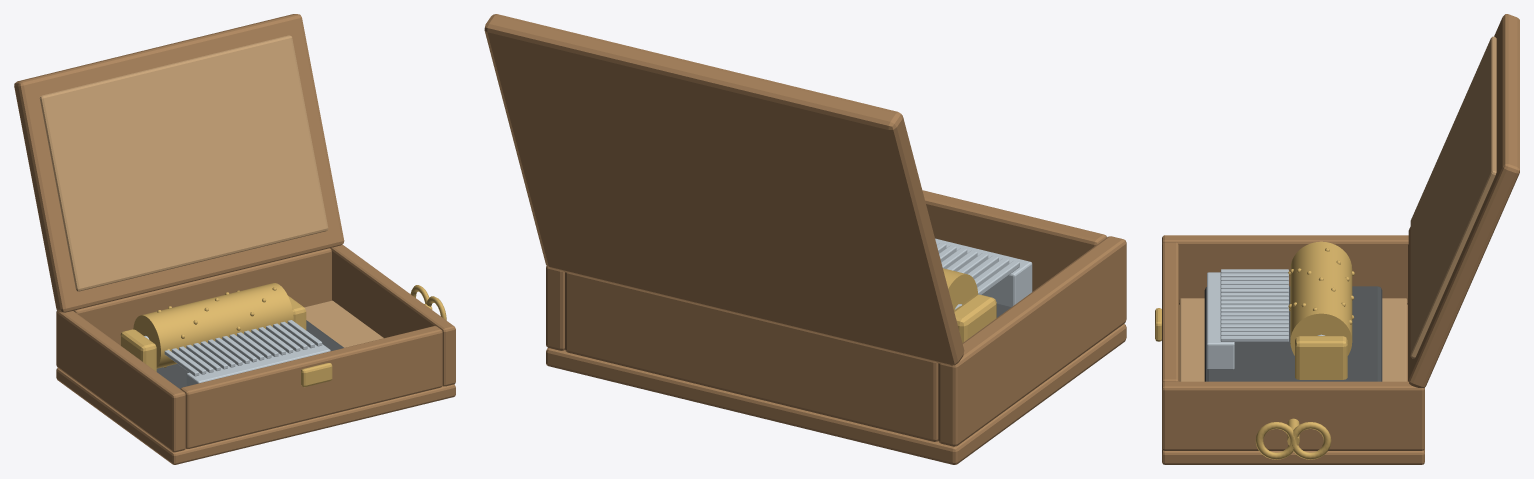
The model's file is music_box_mechanical.glb.
3 views of the same model, side by side, from view 1: azimuth 30°, elevation 25°; view 2: azimuth 150°, elevation 25°; view 3: azimuth 270°, elevation 25° (orthographic). The views are drawn at different scales.
Visible parts, largest first — view 1: Mechanical music box inner lid panel, Mechanical music box open lid, Mechanical music box end wall, Mechanical music box side wall, Mechanical music box end wall.001, Pinned brass music cylinder, Mechanical music box side wall.001, Mechanical music box solid bottom, Mechanical music box interior lining, Music comb mounting bar, Music cylinder support, Mechanism mounting plate (+1 smaller); view 2: Mechanical music box open lid, Mechanical music box end wall.001, Mechanical music box side wall, Mechanical music box solid bottom, Mechanical music box end wall, Music comb mounting bar, Mechanical music box side wall.001, Music cylinder support, Pinned brass music cylinder; view 3: Mechanical music box side wall.001, Mechanical music box inner lid panel, Mechanical music box open lid, Mechanical music box side wall, Mechanism mounting plate, Pinned brass music cylinder, Mechanical music box interior lining, Mechanical music box solid bottom, Mechanical music box end wall, Music cylinder support.001, Music comb mounting bar, Music box winding key turning loop (+2 smaller).
Part boxes in pixels (left/top/right/bottom): Mechanical music box inner lid panel: left=39, top=35, right=328, bottom=291; Mechanical music box open lid: left=14, top=14, right=344, bottom=312; Mechanical music box end wall: left=180, top=326, right=442, bottom=448; Mechanical music box side wall: left=56, top=311, right=185, bottom=452; Mechanical music box end wall.001: left=73, top=248, right=331, bottom=345; Pinned brass music cylinder: left=133, top=283, right=293, bottom=368; Mechanical music box side wall.001: left=330, top=244, right=455, bottom=386; Mechanical music box solid bottom: left=56, top=368, right=455, bottom=464; Mechanical music box interior lining: left=304, top=300, right=383, bottom=347; Music comb mounting bar: left=186, top=344, right=330, bottom=386; Music cylinder support: left=120, top=329, right=156, bottom=371; Mechanism mounting plate: left=156, top=320, right=343, bottom=389; Mechanical music box open lid: left=484, top=14, right=964, bottom=365; Mechanical music box end wall.001: left=565, top=272, right=938, bottom=441; Mechanical music box side wall: left=938, top=236, right=1126, bottom=446; Mechanical music box solid bottom: left=546, top=324, right=1126, bottom=464; Mechanical music box end wall: left=922, top=190, right=1106, bottom=291; Music comb mounting bar: left=935, top=238, right=1032, bottom=307; Mechanical music box side wall.001: left=546, top=265, right=565, bottom=350; Music cylinder support: left=954, top=294, right=996, bottom=342; Pinned brass music cylinder: left=943, top=268, right=978, bottom=310; Mechanical music box side wall.001: left=1162, top=381, right=1424, bottom=450; Mechanical music box inner lid panel: left=1410, top=36, right=1496, bottom=358; Mechanical music box open lid: left=1408, top=14, right=1519, bottom=387; Mechanical music box side wall: left=1162, top=235, right=1408, bottom=304; Mechanism mounting plate: left=1204, top=286, right=1382, bottom=381; Pinned brass music cylinder: left=1290, top=241, right=1352, bottom=355; Mechanical music box interior lining: left=1179, top=298, right=1407, bottom=381; Mechanical music box solid bottom: left=1162, top=304, right=1424, bottom=464; Mechanical music box end wall: left=1162, top=242, right=1178, bottom=383; Music cylinder support.001: left=1295, top=336, right=1347, bottom=379; Music comb mounting bar: left=1207, top=272, right=1234, bottom=369; Music box winding key turning loop: left=1255, top=422, right=1295, bottom=459.
Bounding box in the file's own units: 0.2621 × 0.214 × 0.2359.
